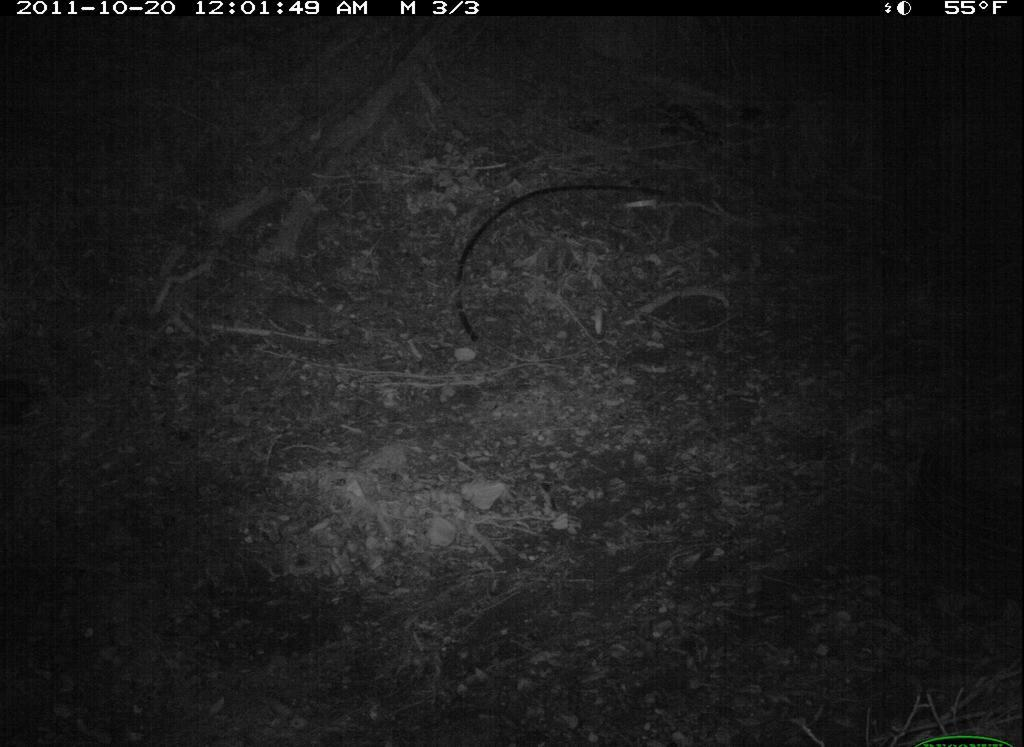raccoon: (809, 187, 912, 370)
